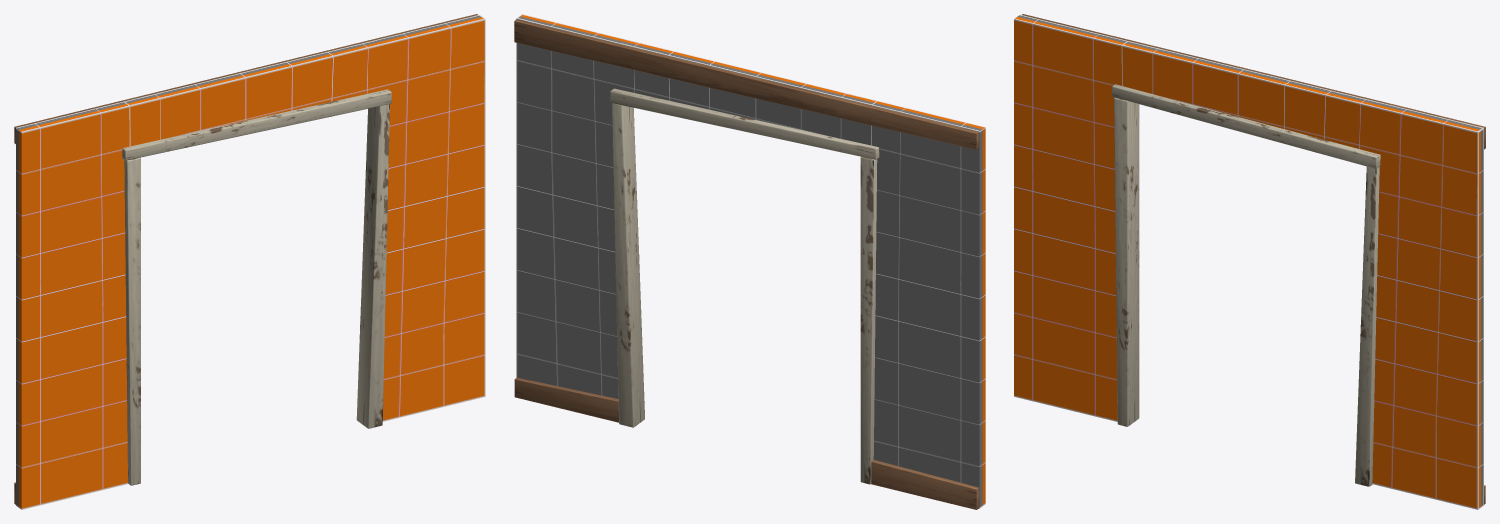
Rendered from Hangar01WD_2.FBX.
3 renders of one model, left to right at view 1: azimuth 30°, elevation 25°; view 2: azimuth 150°, elevation 25°; view 3: azimuth 330°, elevation 25°, orthographic.
Visible parts, largest first — view 1: Hangar01WD_2; view 2: Hangar01WD_2; view 3: Hangar01WD_2.
Part boxes in pixels (box(x1,y1,x2,y2)): Hangar01WD_2: box(14, 14, 485, 509); Hangar01WD_2: box(514, 14, 985, 509); Hangar01WD_2: box(1014, 14, 1485, 509).
Size of what is drawn, in the model's own units: 4.5 by 3.51 by 0.2278.
